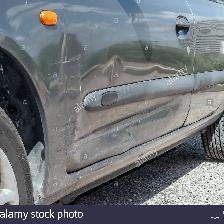dent: (40, 63, 149, 126)
